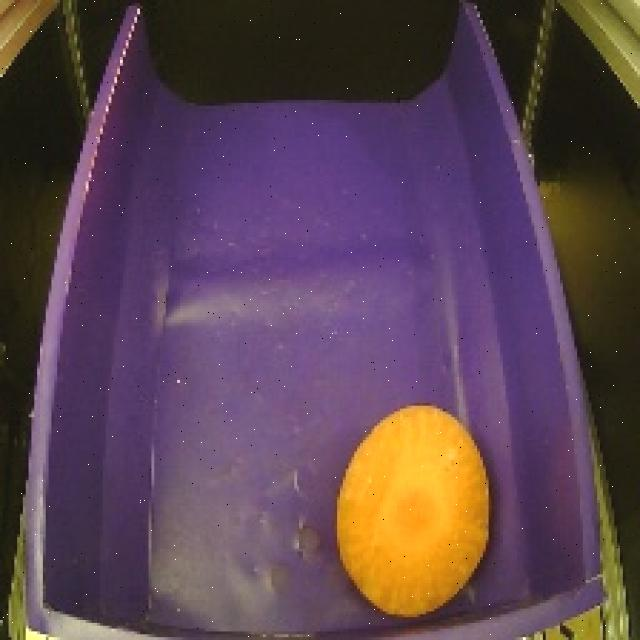carrots: (324, 389, 506, 624)
